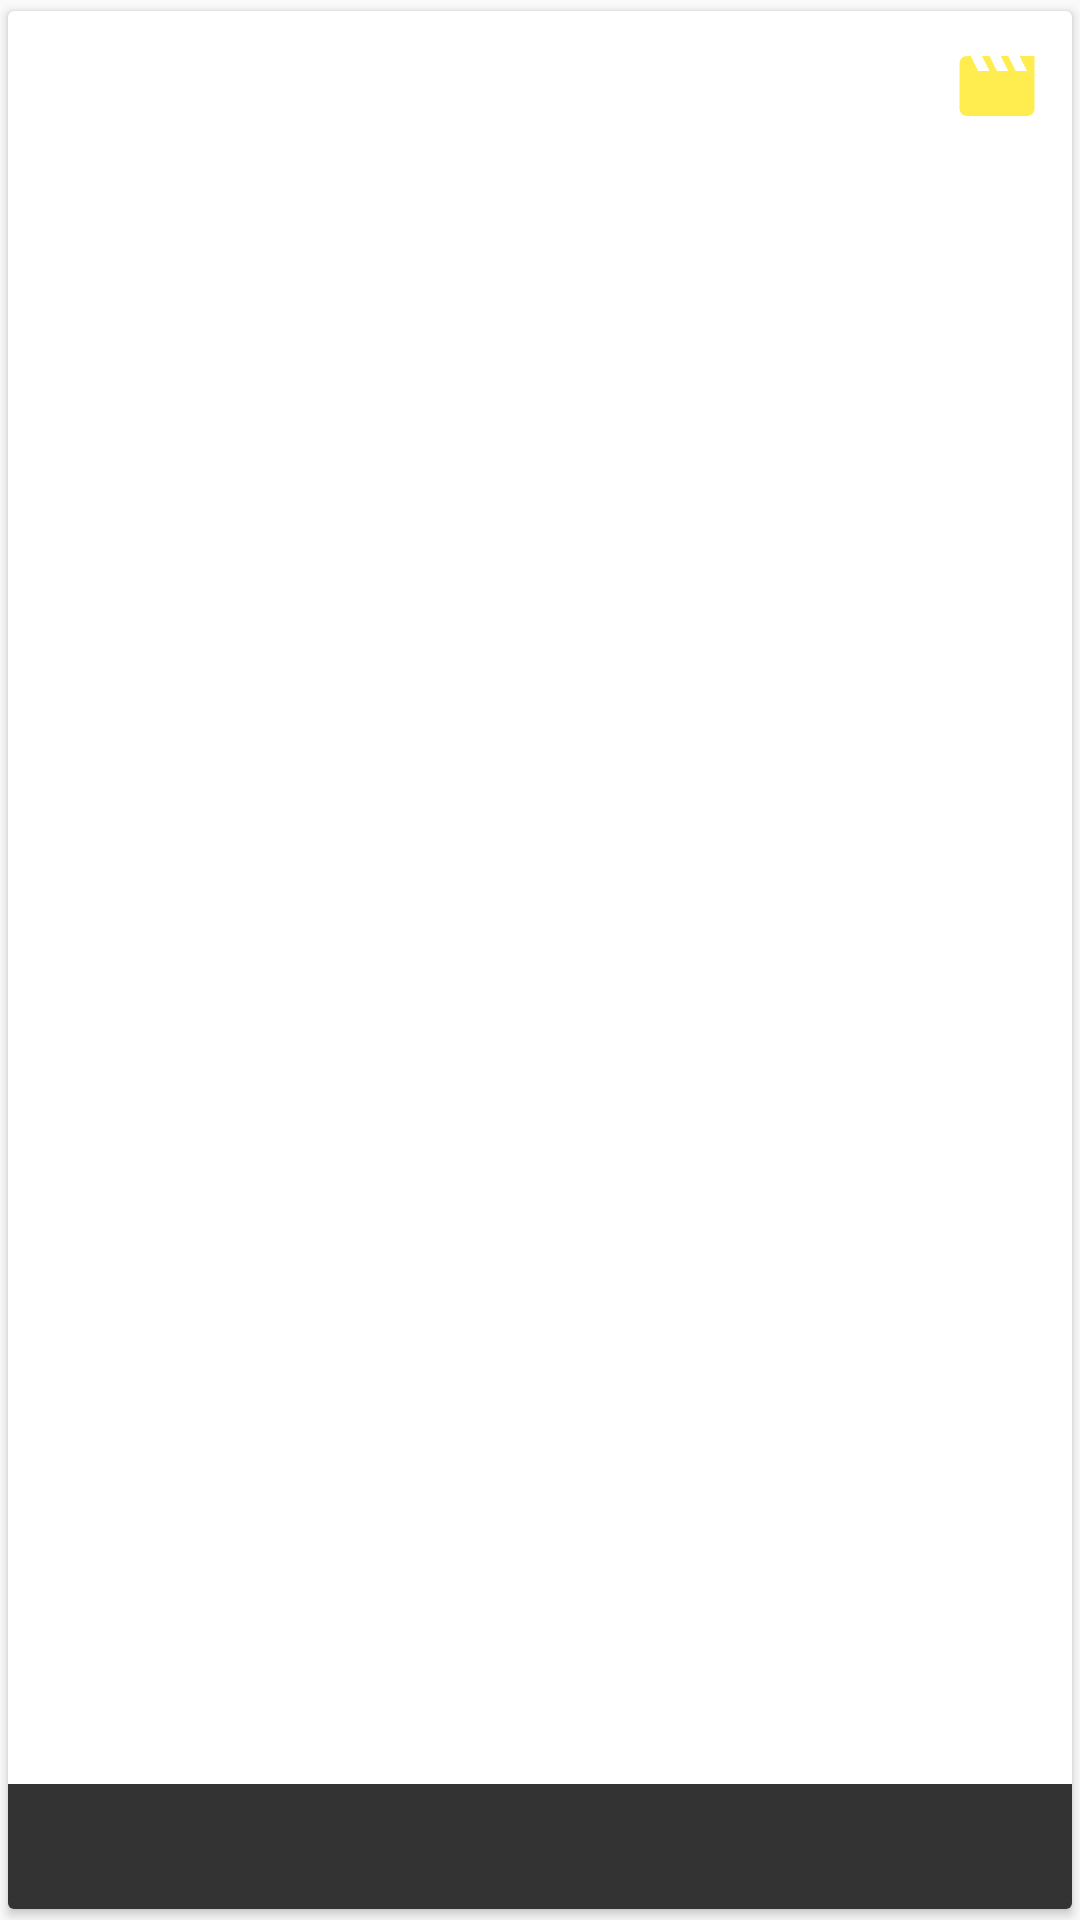

Point at icon controls on the screen. Image size 1080px x 1920px, points as [x,y].
movie creation: [997,86]
